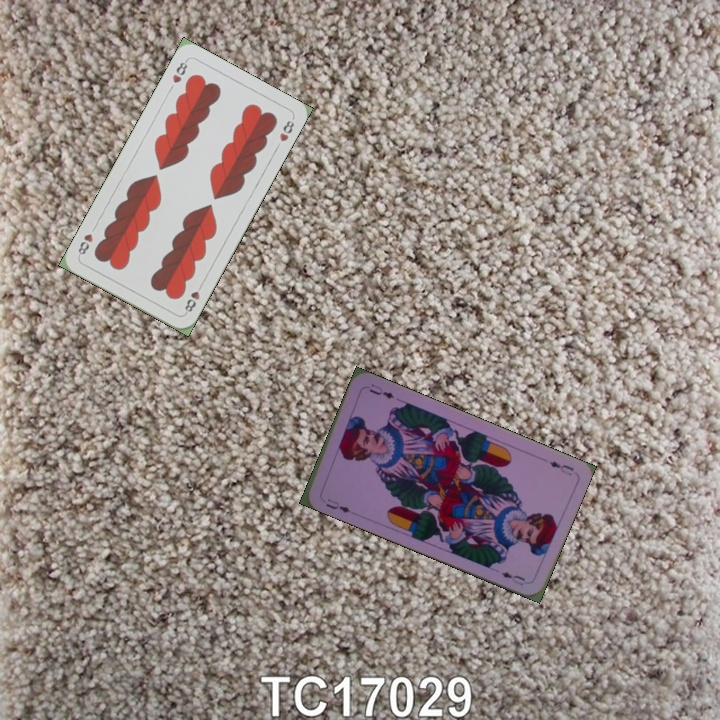EU: (321, 494, 353, 515), (546, 457, 576, 478)
H8: (181, 279, 205, 317), (168, 56, 190, 86)
